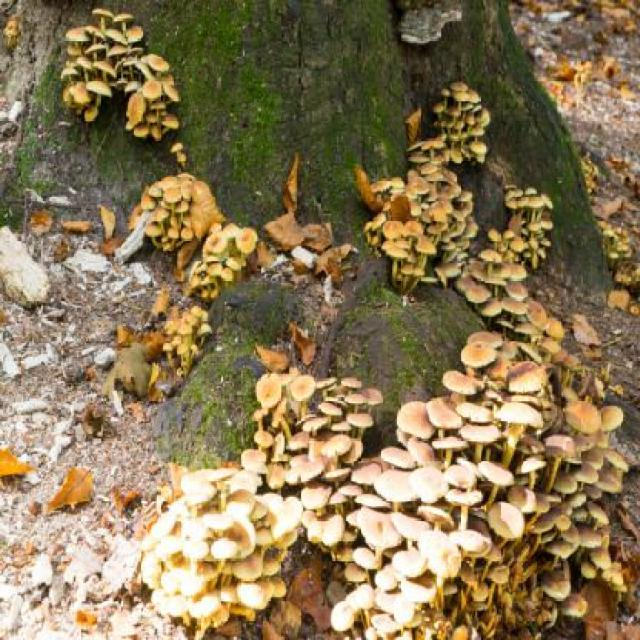Mushroom: (133, 326, 630, 640), (450, 182, 570, 356), (360, 133, 480, 301), (56, 2, 182, 142), (125, 170, 197, 258), (187, 220, 260, 306), (432, 80, 488, 171), (164, 300, 213, 382), (176, 150, 193, 170), (170, 140, 183, 158)
